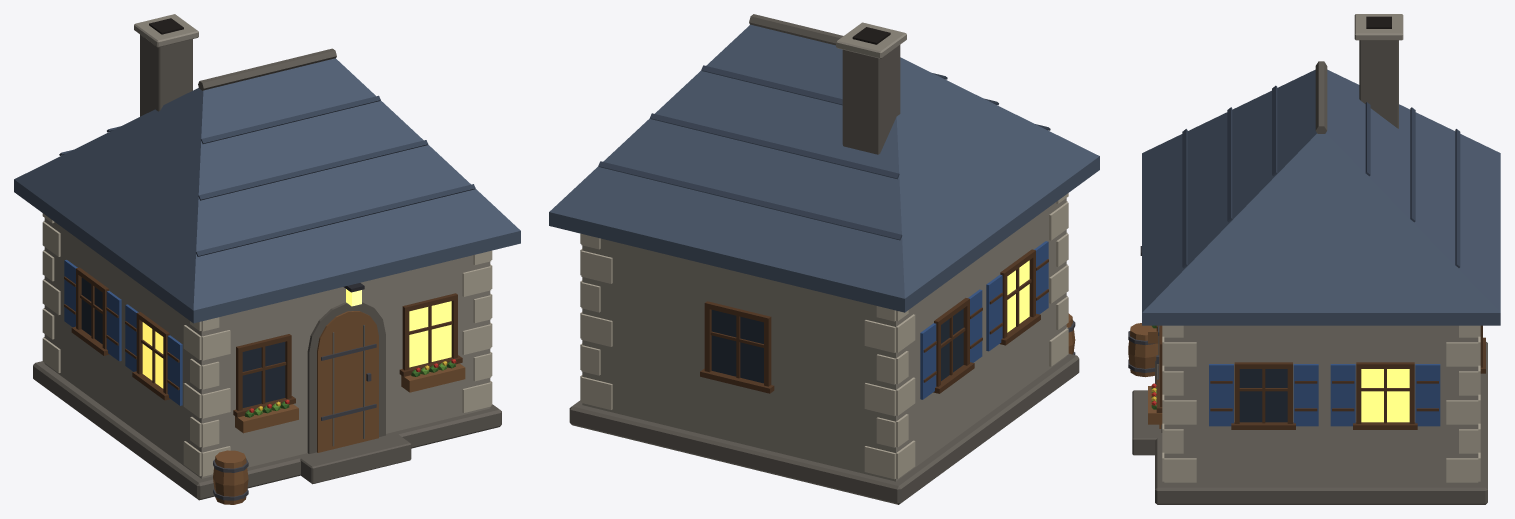
The model's file is town_house_b.glb.
The picture shows the model from 3 angles, left to right: view 1: azimuth 30°, elevation 25°; view 2: azimuth 150°, elevation 25°; view 3: azimuth 270°, elevation 25°; orthographic projection. The views are drawn at different scales.
Visible parts, largest first — view 1: town_house_b; view 2: town_house_b; view 3: town_house_b.
Boxes of the visible parts, <box> form: town_house_b: <box>14,14,520,504</box>; town_house_b: <box>549,14,1099,504</box>; town_house_b: <box>1128,14,1500,504</box>.
Size of the model in its own units: 5.9 by 6.45 by 5.82.
